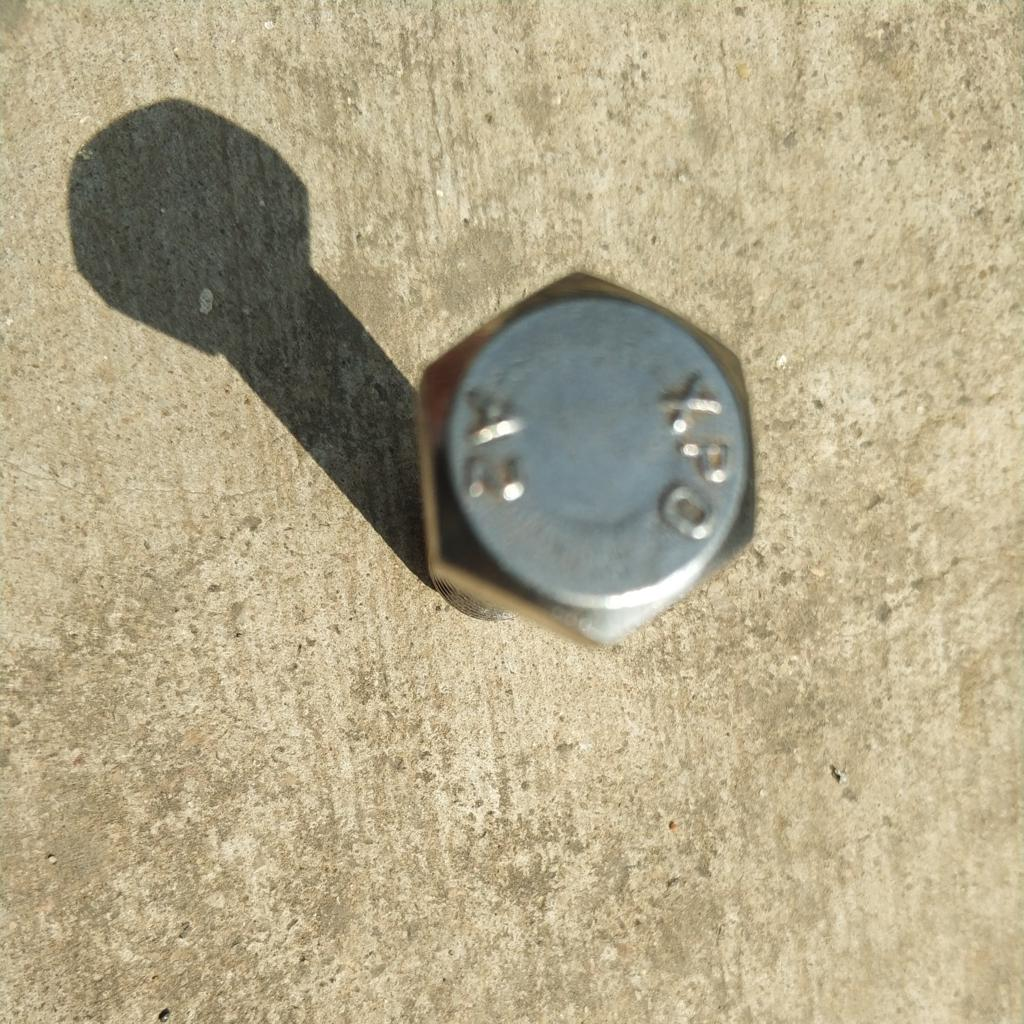screwtype2silver: (350, 262, 784, 661)
